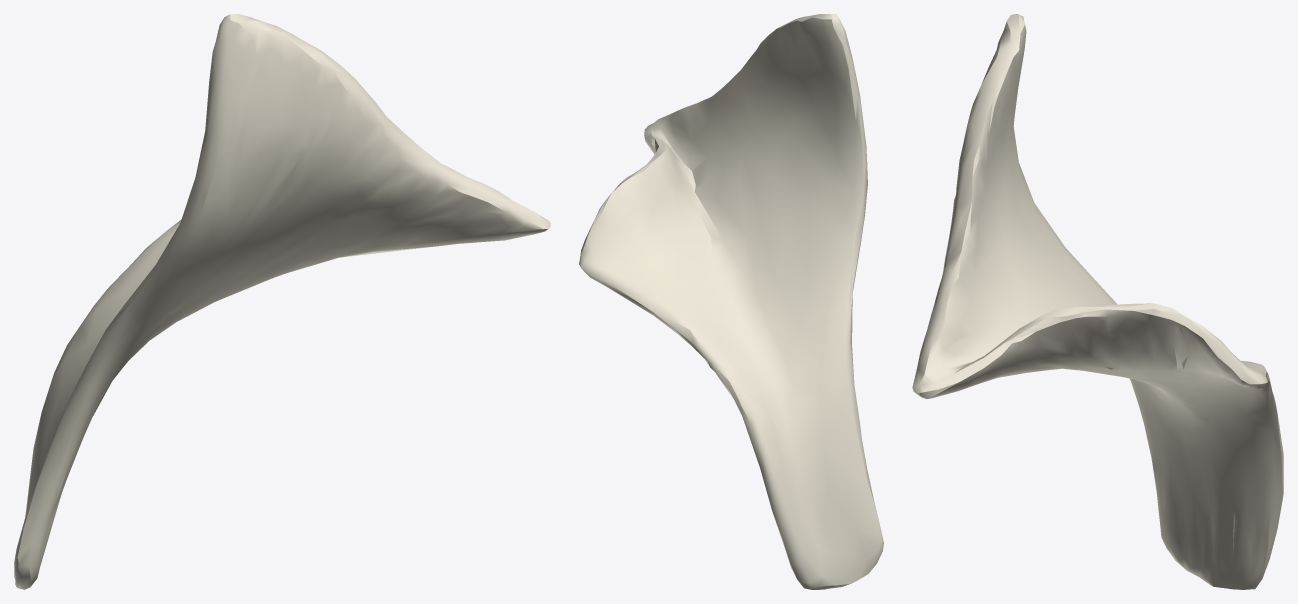
The model's file is fma43025_mm1392m.glb.
3 renders of one model, left to right at view 1: azimuth 30°, elevation 25°; view 2: azimuth 150°, elevation 25°; view 3: azimuth 270°, elevation 25°, orthographic. The views are drawn at different scales.
Visible parts, largest first — view 1: FMA43025_MM1392M; view 2: FMA43025_MM1392M; view 3: FMA43025_MM1392M.
Boxes of the visible parts, x1=… form: FMA43025_MM1392M: x1=14, y1=14, x2=550, y2=589; FMA43025_MM1392M: x1=579, y1=14, x2=883, y2=589; FMA43025_MM1392M: x1=912, y1=14, x2=1283, y2=589.
Bounding box in the file's own units: 0.0603 × 0.0859 × 0.0463.
